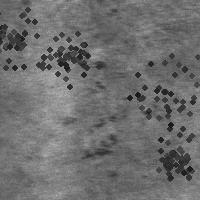rolled-in_scale: (109, 36, 200, 154), (71, 44, 136, 184), (29, 12, 109, 92), (0, 0, 60, 84), (143, 128, 200, 190)
